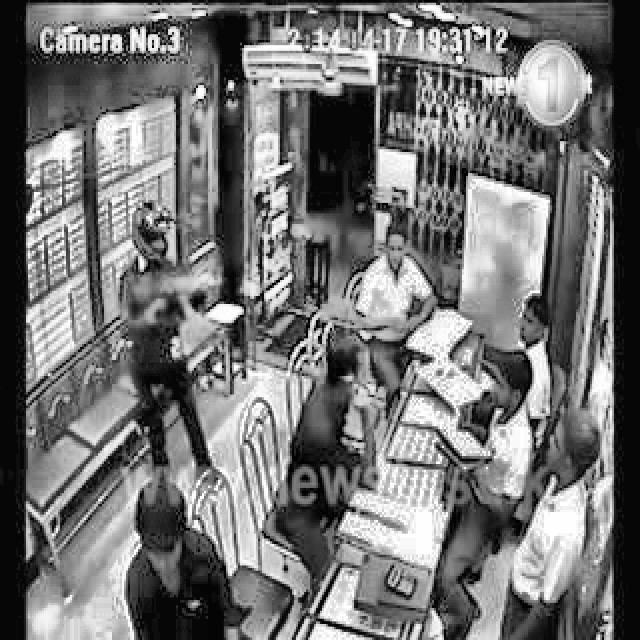robbery: (116, 199, 228, 482)
